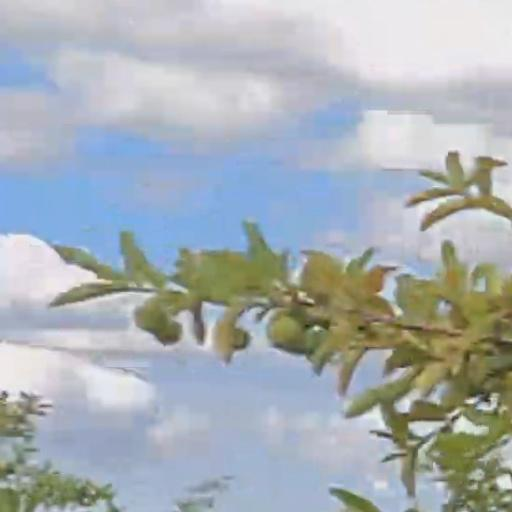acerola_verde: (269, 314, 302, 347)
